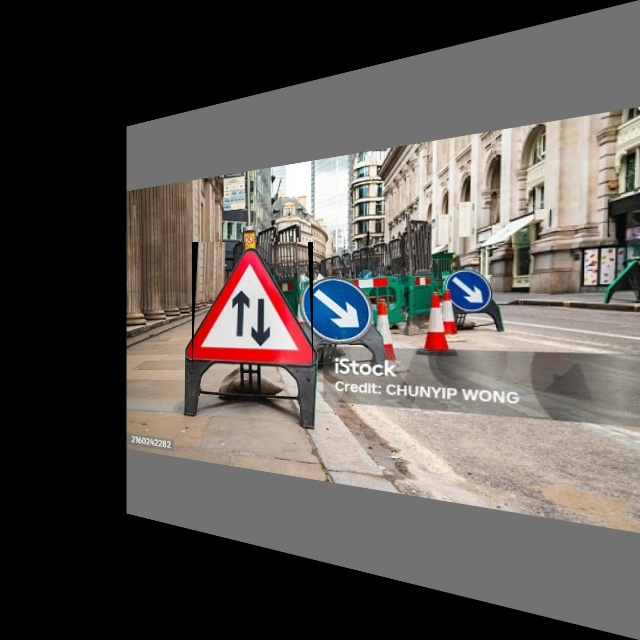Mandatory_Two_Way_Traffic: (192, 242, 313, 371)
